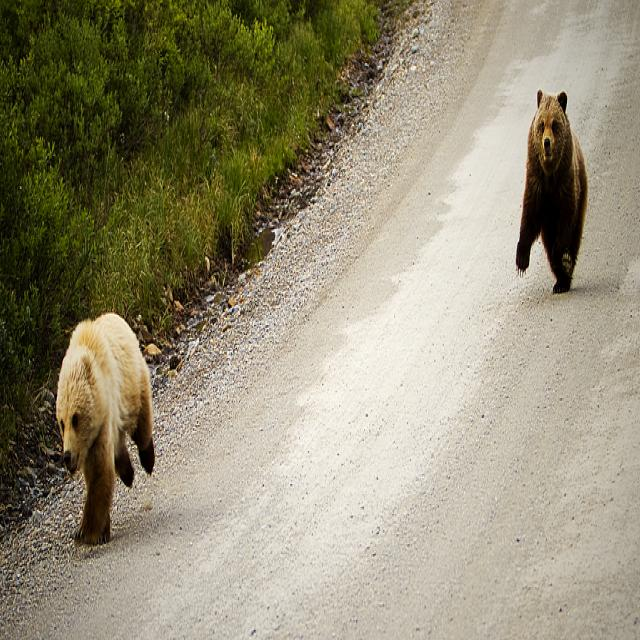Cheetahs: (55, 308, 155, 547), (515, 86, 589, 295)
